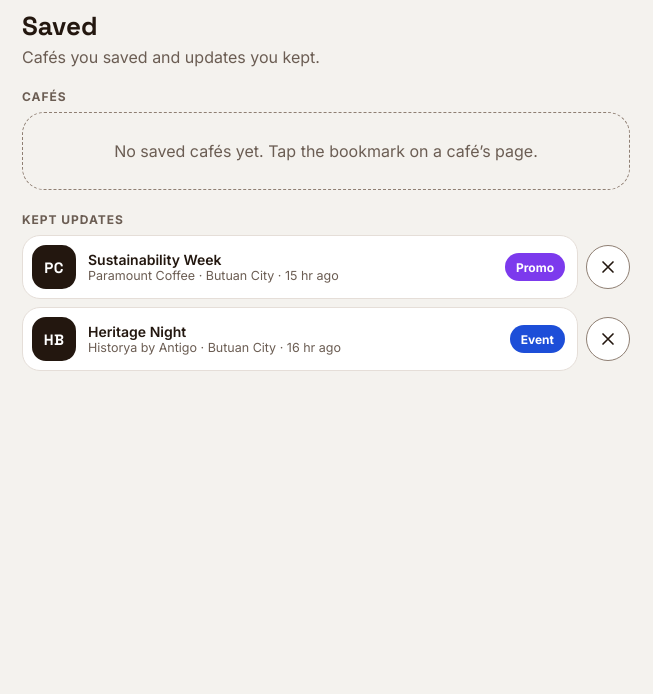
Test: Saved page › removes a kept update
Click the button named "Remove Heritage Night from Saved": (608, 339) [586,317,630,361]
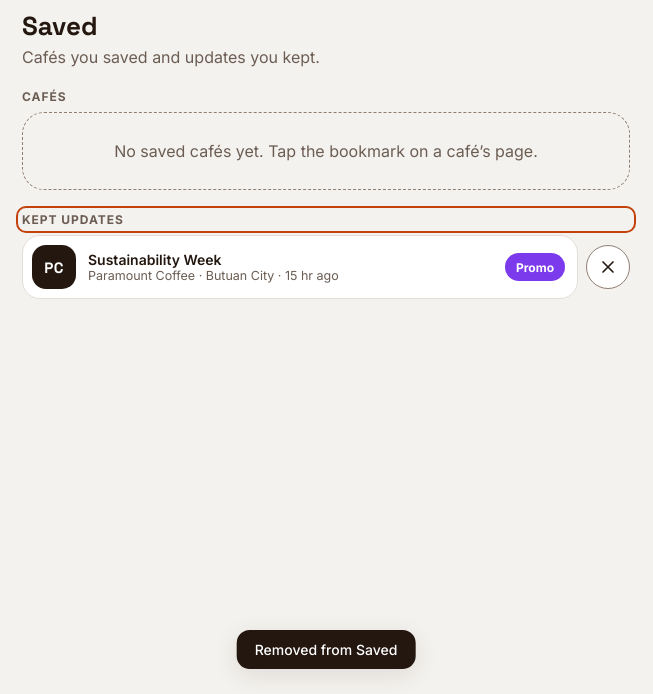
Expected: the number of links is 1, [22,235,578,299]
